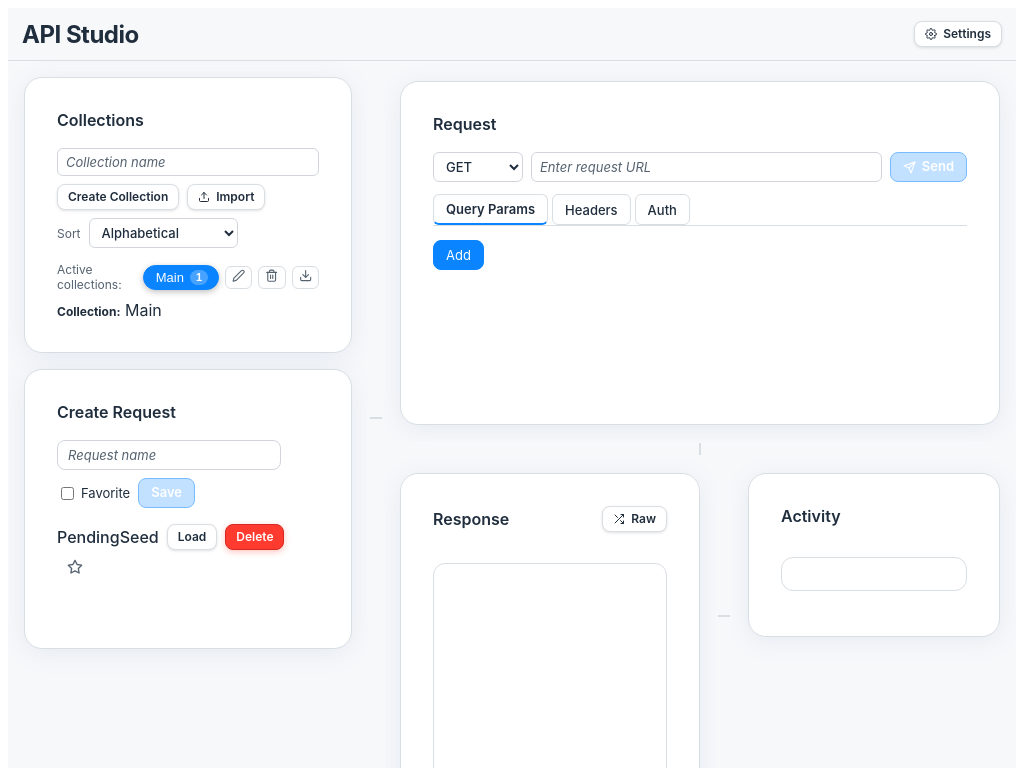
Scenario: Auto-save pending indicator › shows Saving… during debounce then Auto-saved after completion
Click the button "Load".
click(192, 537)  # box [167, 524, 217, 550]
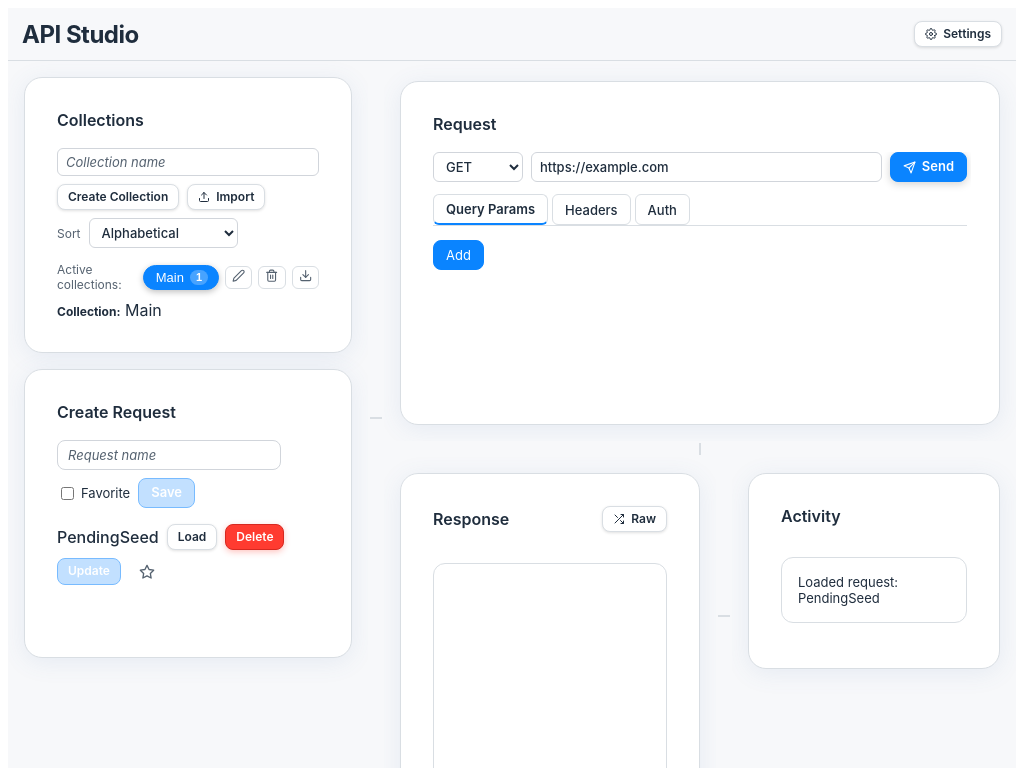
Replace the text in the field with placeholder "Enter request URL" with "https://example.com/changed" at (706, 167), box [531, 152, 882, 182]
Wait 1600 ms
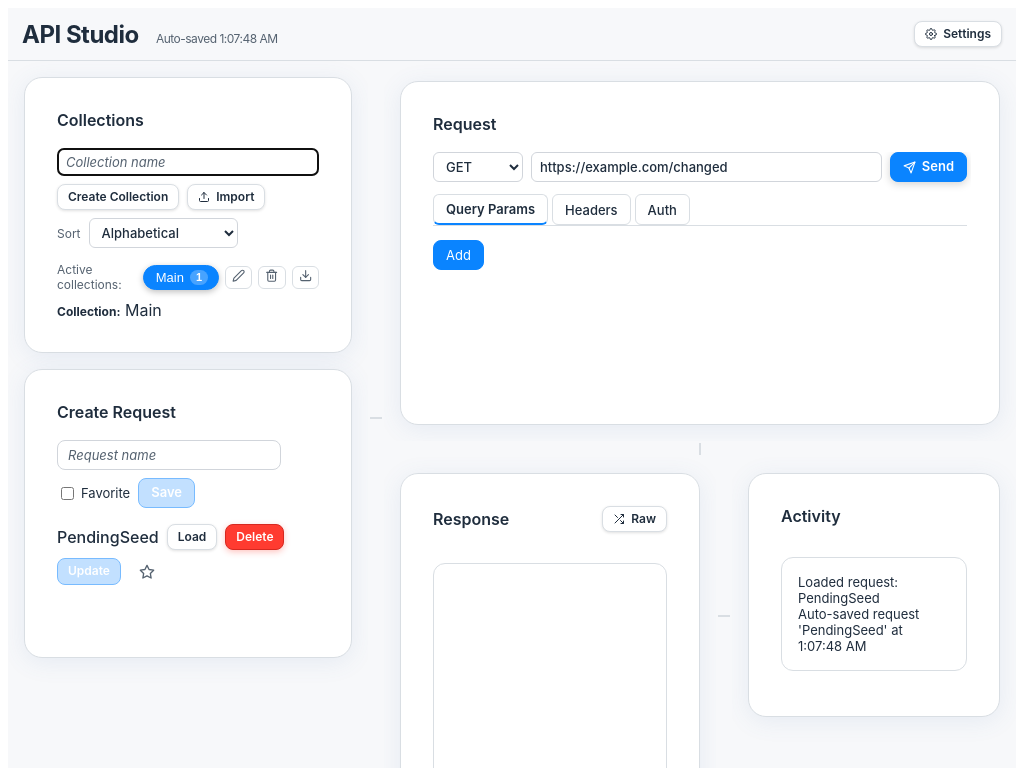
Expected: the text "Auto-saved 1:07:48 AM" is shown, [156, 30, 278, 46]
